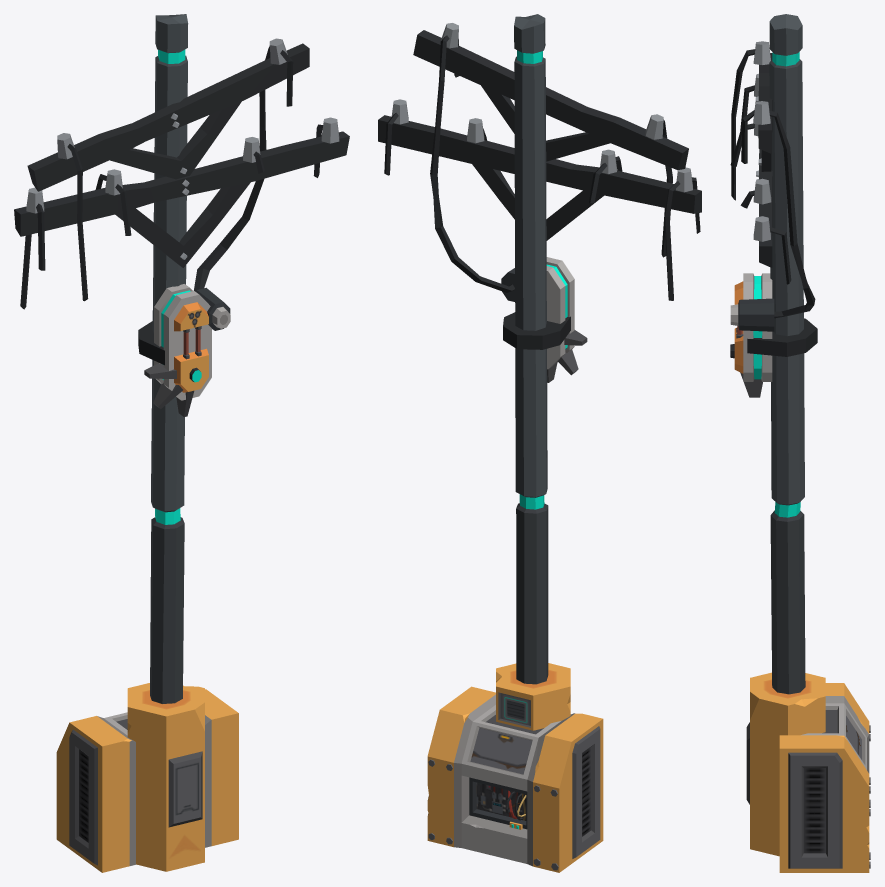
File: SM_Prop_Powerpole_01.fbx
3 renders of one model, left to right at view 1: azimuth 30°, elevation 25°; view 2: azimuth 150°, elevation 25°; view 3: azimuth 270°, elevation 25°, orthographic. The views are drawn at different scales.
Parts seen in each view (by area): view 1: SM_Prop_Powerpole_01; view 2: SM_Prop_Powerpole_01; view 3: SM_Prop_Powerpole_01.
Part boxes in pixels (x1,y1,x2,y2): SM_Prop_Powerpole_01: [14, 14, 349, 872]; SM_Prop_Powerpole_01: [378, 14, 701, 872]; SM_Prop_Powerpole_01: [730, 14, 870, 872].
Size of the model in its own units: 261 by 633 by 97.89.
